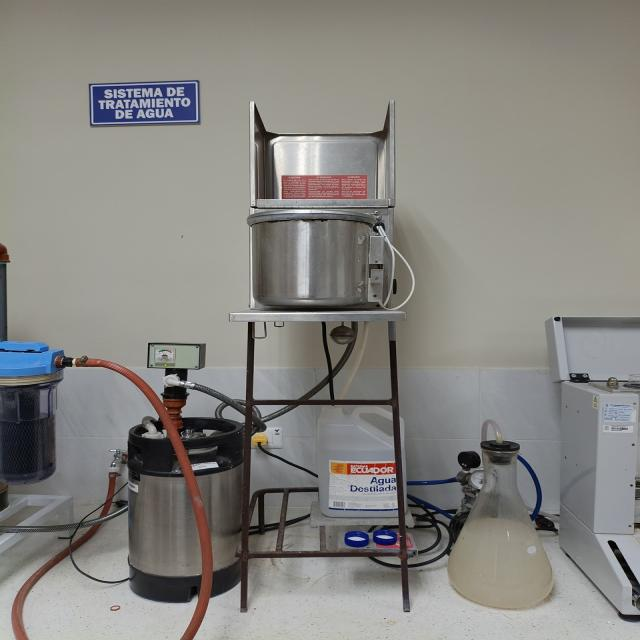Destilador_de_Agua_Continuo_Metalico: (230, 100, 406, 482), (264, 487, 372, 558)
